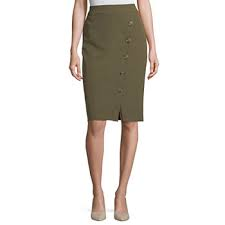C_skirt: (73, 4, 148, 128)
